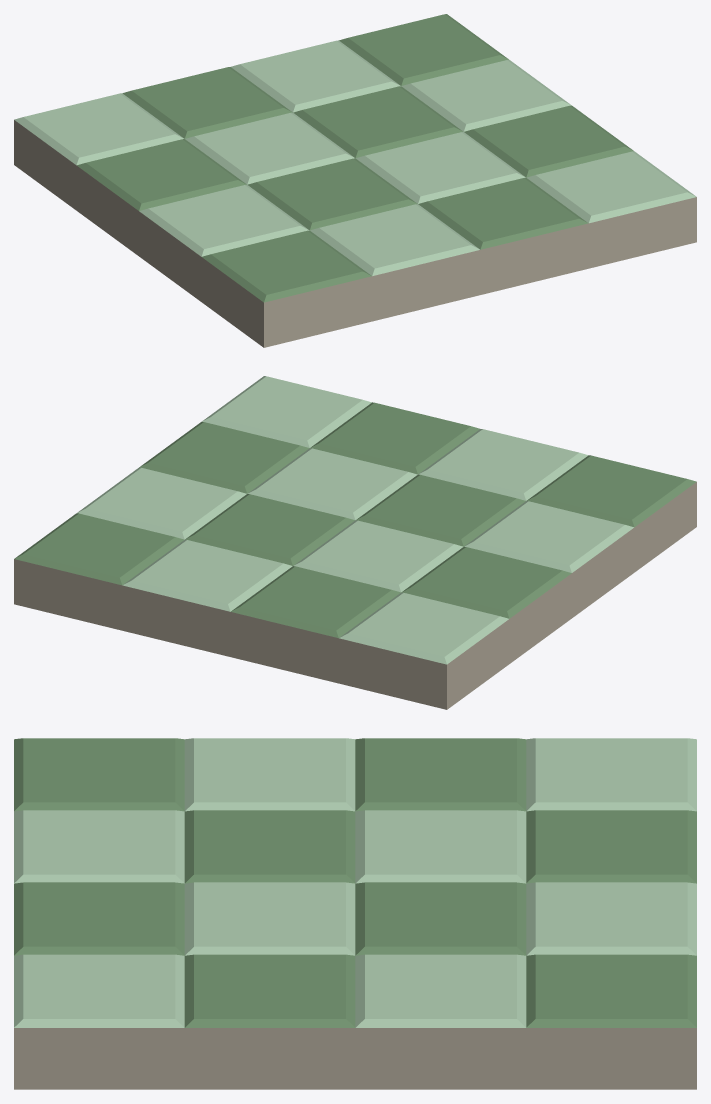
Rendered from Mesh_GroundCeramic_M2.fbx.
3 renders of one model, top to bottom at view 1: azimuth 30°, elevation 25°; view 2: azimuth 150°, elevation 25°; view 3: azimuth 270°, elevation 25°, orthographic. The views are drawn at different scales.
Visible parts, largest first — view 1: Mesh_GroundCeramic_M2; view 2: Mesh_GroundCeramic_M2; view 3: Mesh_GroundCeramic_M2.
Part boxes in pixels (x1,y1,x2,y2): Mesh_GroundCeramic_M2: (14, 14, 696, 347); Mesh_GroundCeramic_M2: (14, 376, 696, 709); Mesh_GroundCeramic_M2: (14, 738, 696, 1089).
Bounding box in the file's own units: 1 × 0.1082 × 1.
